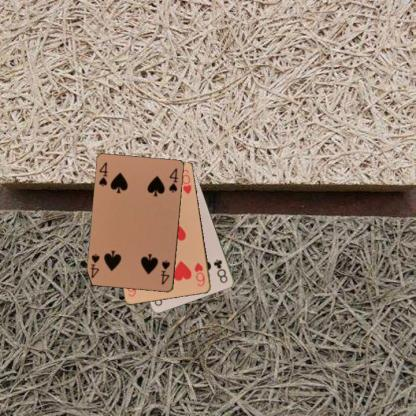4s: (158, 258, 172, 286), (97, 160, 109, 188)
6h: (192, 260, 206, 288)
8c: (211, 257, 229, 284)
